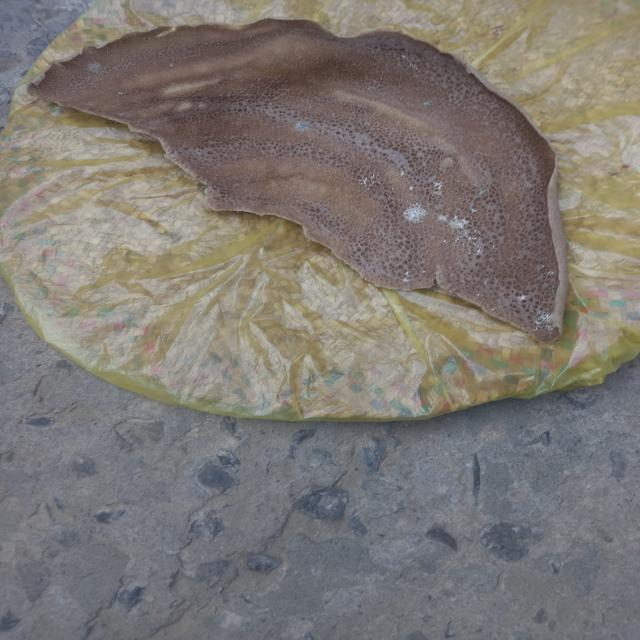injera_mold: (401, 200, 428, 226), (438, 214, 471, 231), (532, 310, 554, 332), (358, 173, 380, 189), (295, 119, 310, 134), (452, 232, 466, 247), (431, 180, 445, 194), (88, 63, 107, 72), (409, 60, 422, 71), (401, 271, 412, 283), (474, 246, 487, 256), (513, 294, 531, 301), (423, 99, 436, 107), (475, 188, 486, 197), (397, 170, 409, 178), (468, 234, 478, 242), (546, 270, 556, 278), (367, 85, 377, 92), (469, 207, 479, 214), (482, 277, 489, 286), (408, 185, 415, 192), (441, 238, 448, 245), (116, 91, 124, 97), (536, 265, 550, 268), (168, 62, 176, 67), (474, 230, 482, 234), (476, 291, 480, 299), (491, 245, 497, 250), (490, 307, 496, 312), (457, 208, 463, 213), (357, 243, 363, 248), (467, 248, 471, 255), (421, 270, 428, 274), (401, 54, 406, 59), (488, 239, 494, 243), (448, 266, 452, 272), (381, 232, 387, 236), (136, 120, 141, 124), (387, 195, 392, 199), (390, 187, 396, 190), (393, 154, 399, 157), (346, 159, 352, 162), (499, 264, 502, 270), (358, 170, 366, 172), (371, 205, 376, 208), (326, 176, 333, 178), (319, 204, 322, 208), (384, 163, 388, 166), (491, 274, 497, 276), (503, 264, 508, 266), (363, 214, 366, 217)
